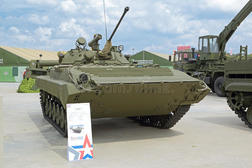bmp: (37, 35, 204, 129)
